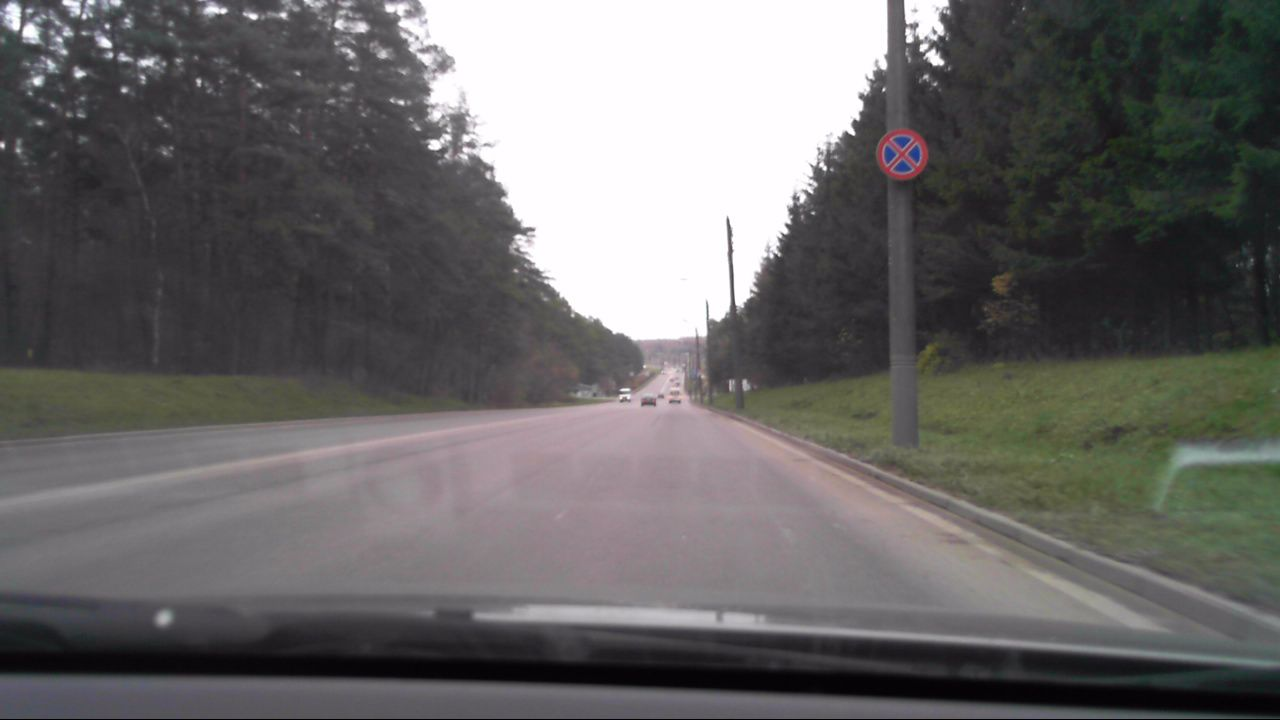No Parking: (877, 128, 926, 183)
